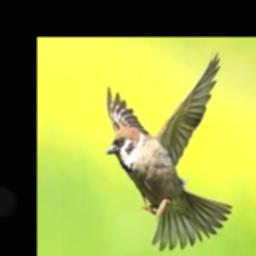Sparrow: (106, 49, 233, 251)
